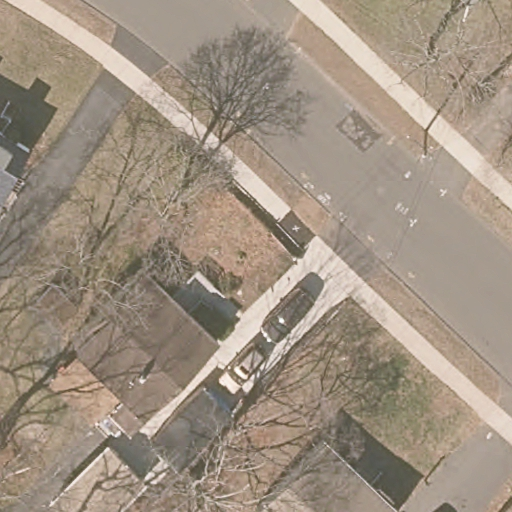DT: (414, 132, 442, 164)
